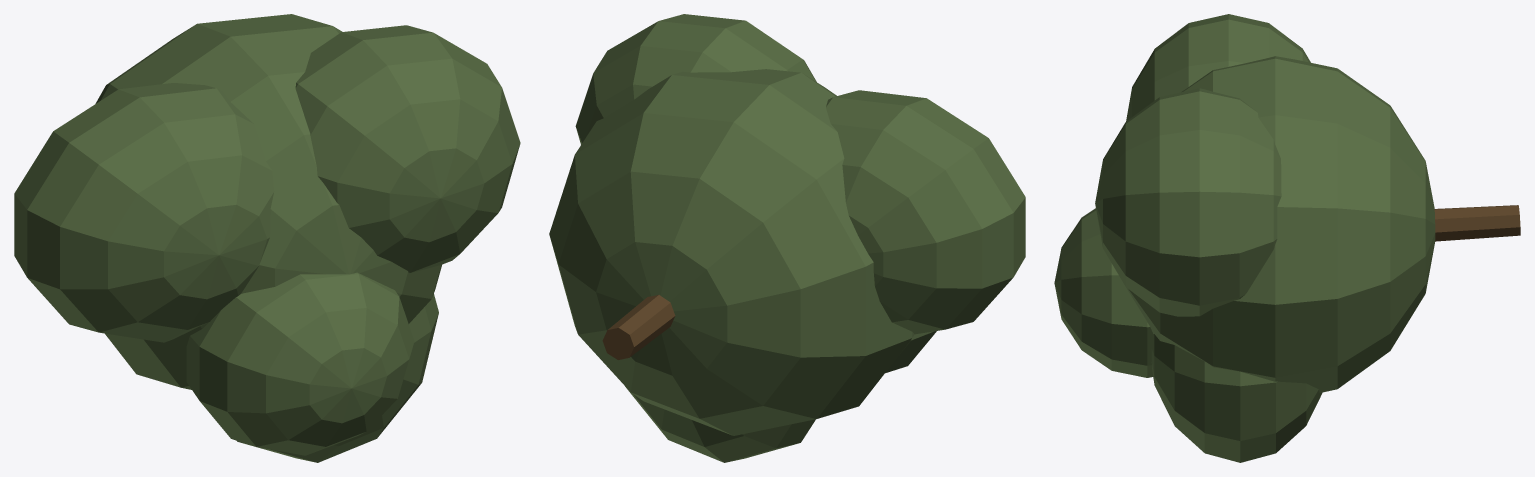
Rendered from snow_bush_small.obj.
3 views of the same model, side by side, from view 1: azimuth 30°, elevation 25°; view 2: azimuth 150°, elevation 25°; view 3: azimuth 270°, elevation 25° (orthographic). The views are drawn at different scales.
Parts seen in each view (by area): view 1: snow_bush_small_leaf; view 2: snow_bush_small_leaf, snow_bush_small_wood; view 3: snow_bush_small_leaf, snow_bush_small_wood.
Part boxes in pixels (x1,y1,x2,y2): snow_bush_small_leaf: (14, 14, 520, 462); snow_bush_small_leaf: (549, 14, 1025, 462); snow_bush_small_wood: (602, 295, 675, 359); snow_bush_small_leaf: (1054, 14, 1435, 462); snow_bush_small_wood: (1434, 205, 1520, 241).
Size of the model in its own units: 0.8072 by 0.7064 by 0.802.
